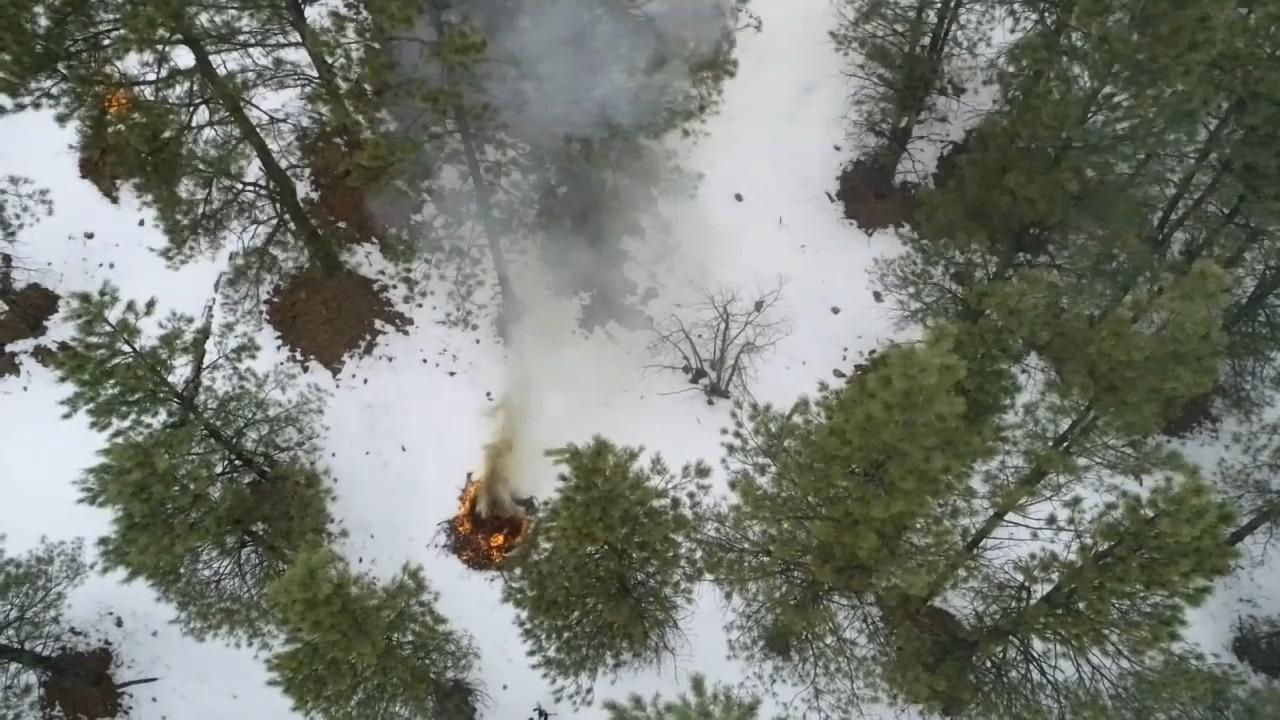fire: (446, 468, 524, 568)
smoke: (449, 0, 688, 160)
